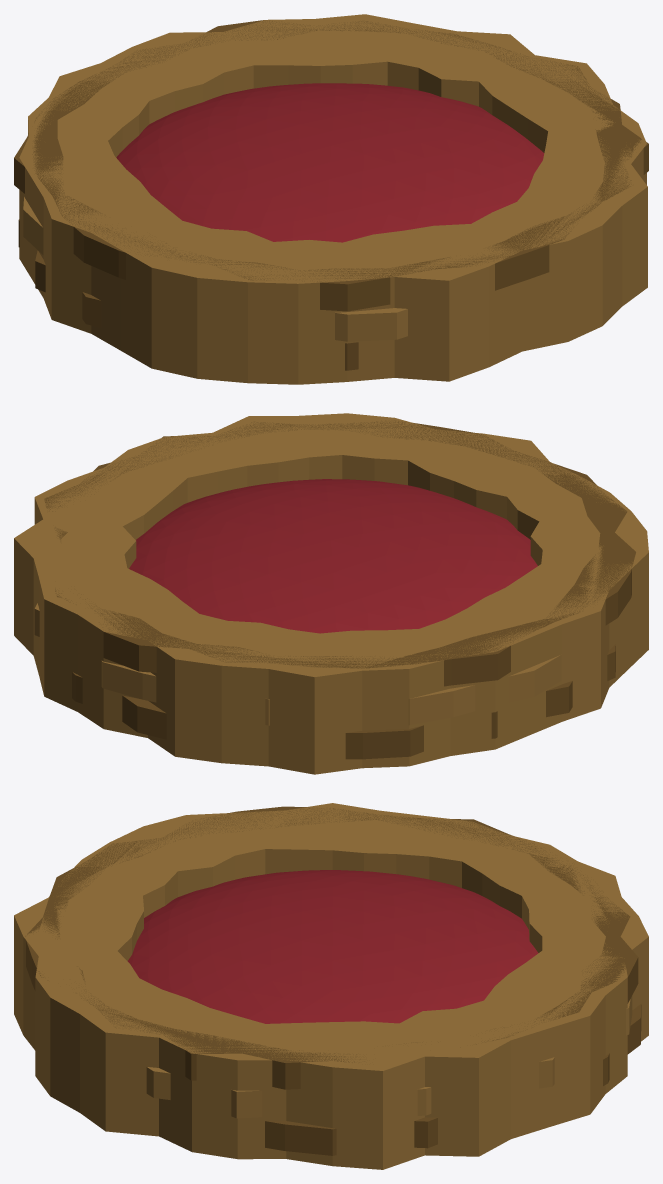
File: nest_bed.obj
3 views of the same model, one above another, from view 1: azimuth 30°, elevation 25°; view 2: azimuth 150°, elevation 25°; view 3: azimuth 270°, elevation 25° (orthographic). The views are drawn at different scales.
Visible parts, largest first — view 1: geometry_0, geometry_4, geometry_3, geometry_2, geometry_1; view 2: geometry_0, geometry_4, geometry_3, geometry_2, geometry_1; view 3: geometry_0, geometry_4, geometry_3, geometry_1, geometry_2.
Part boxes in pixels (<box>): geometry_0: <box>19,14,647,384</box>; geometry_4: <box>116,83,544,242</box>; geometry_3: <box>14,20,648,311</box>; geometry_2: <box>23,197,407,341</box>; geometry_1: <box>18,219,358,370</box>; geometry_0: <box>14,413,648,774</box>; geometry_4: <box>129,479,537,633</box>; geometry_3: <box>44,420,635,686</box>; geometry_2: <box>34,603,561,725</box>; geometry_1: <box>72,644,615,759</box>; geometry_0: <box>14,803,648,1169</box>; geometry_4: <box>127,870,538,1023</box>; geometry_3: <box>25,806,638,1089</box>; geometry_1: <box>265,1004,641,1155</box>; geometry_2: <box>146,996,632,1118</box>.
Bounding box in the file's own units: 0.7558 × 0.1362 × 0.7566.
